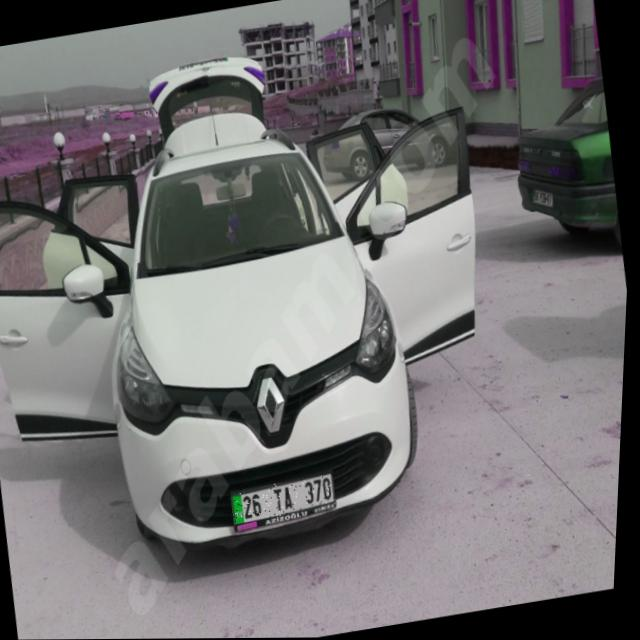license_plate: (234, 474, 341, 525)
